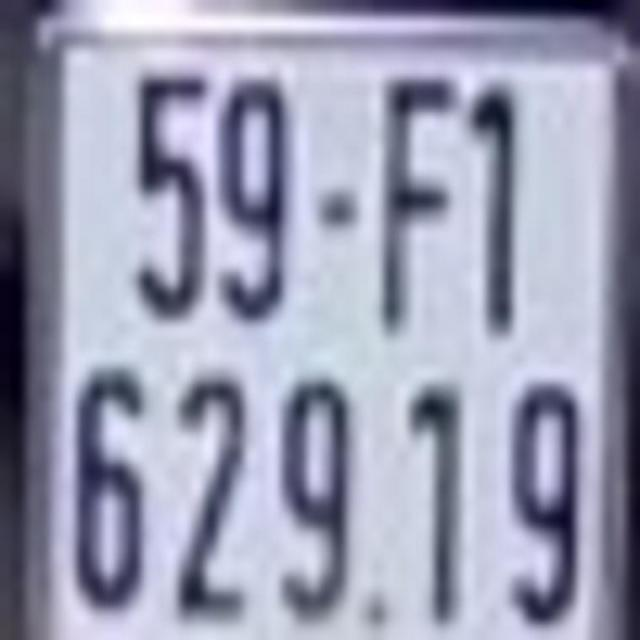1: (405, 384, 467, 618), (474, 91, 527, 328)
2: (168, 372, 252, 612)
5: (134, 89, 206, 321)
6: (75, 368, 149, 611)
9: (278, 371, 350, 615), (508, 380, 578, 624), (225, 87, 290, 316)
F: (380, 70, 450, 338)
